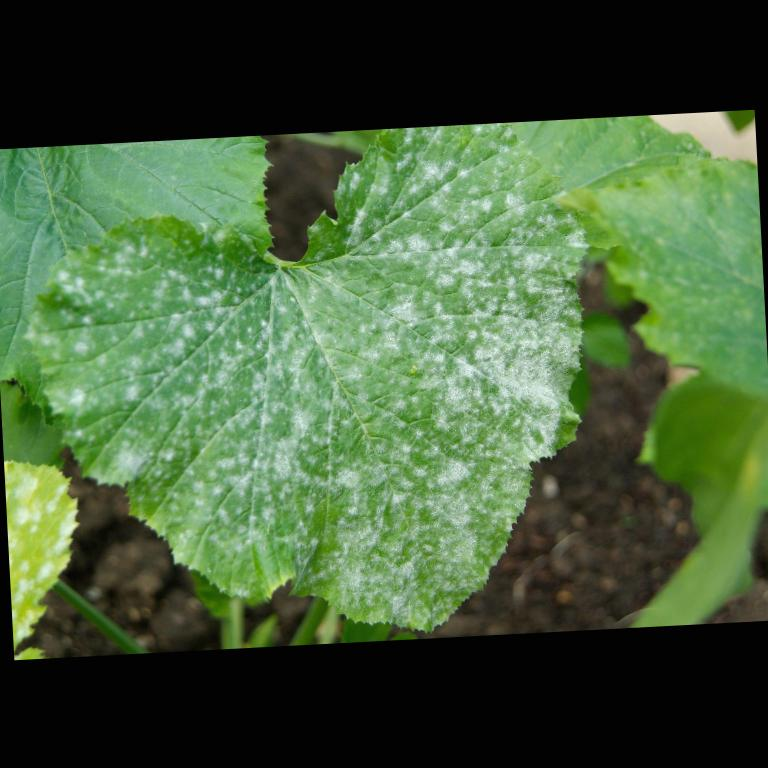powdery-mildew: (112, 270, 326, 499), (370, 254, 560, 446), (350, 452, 478, 578)
